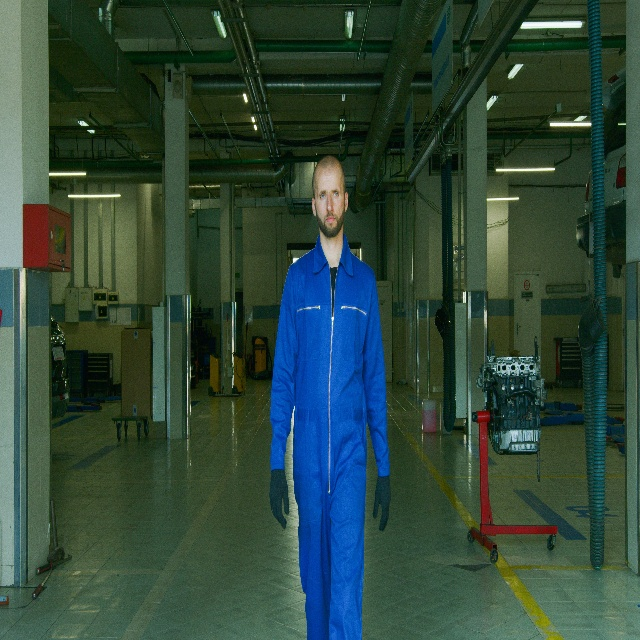Guantes: (269, 469, 289, 529), (372, 475, 391, 532)
